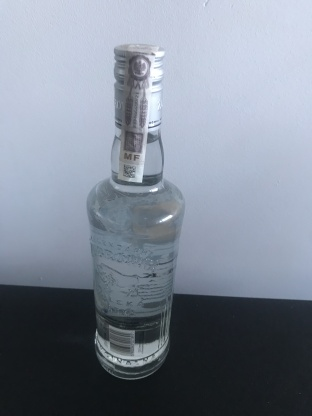nakretka: (108, 37, 167, 131)
